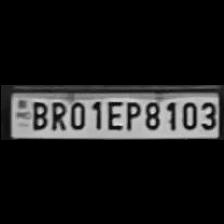0: (66, 98, 86, 130), (178, 98, 198, 130)
1: (87, 97, 103, 129), (161, 98, 177, 130)
3: (198, 98, 216, 130)
8: (140, 98, 162, 130)
B: (26, 98, 48, 130)
E: (104, 97, 122, 130)
P: (122, 97, 140, 129)
R: (46, 98, 66, 130)
